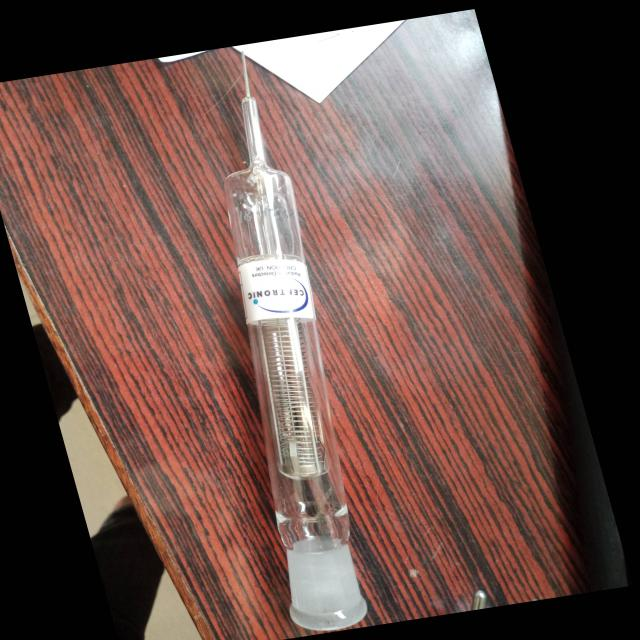Helium Lamp: (129, 43, 420, 639)
